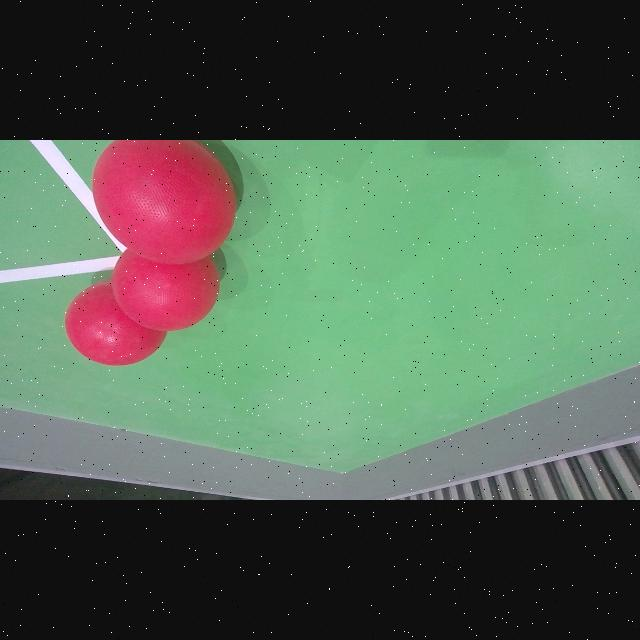R: (93, 140, 237, 264), (105, 242, 218, 332), (63, 282, 163, 373)
